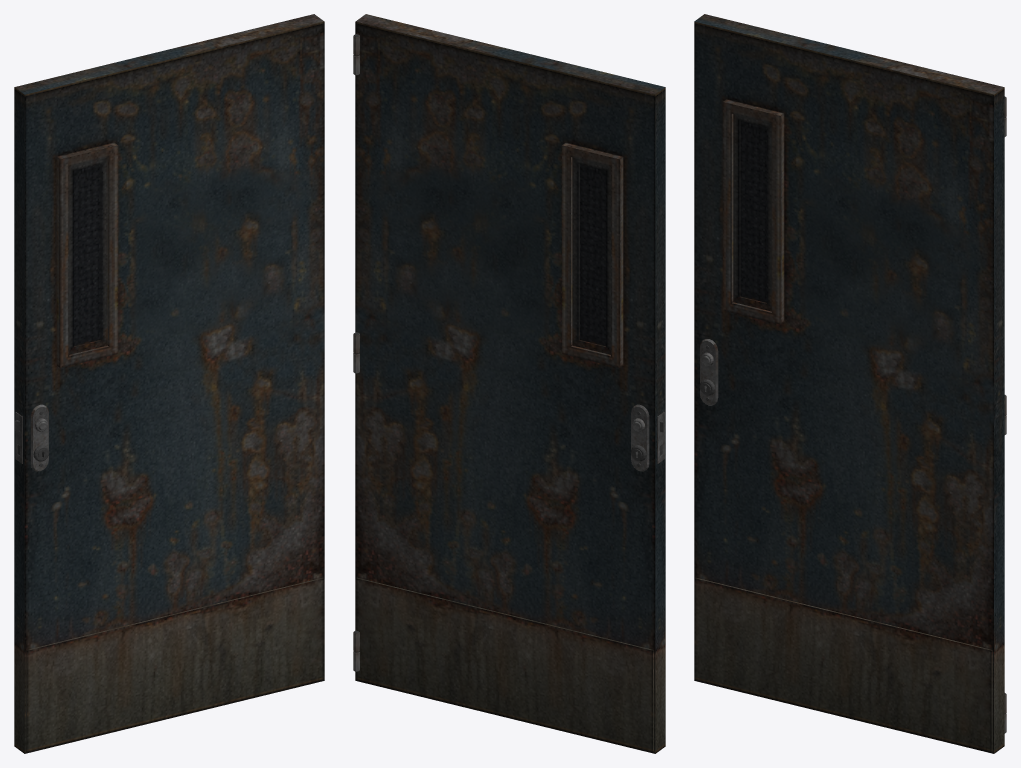
The picture shows the model from 3 angles, left to right: view 1: azimuth 30°, elevation 25°; view 2: azimuth 150°, elevation 25°; view 3: azimuth 330°, elevation 25°; orthographic projection.
Parts seen in each view (by area): view 1: door_3; view 2: door_3; view 3: door_3.
Part boxes in pixels (x1,y1,x2,y2): door_3: (14,14,324,753); door_3: (353,14,665,753); door_3: (694,14,1006,753).
Size of the model in its own units: 1.01 by 2.1 by 0.1.
Materials: 3 (3 with a texture image).
